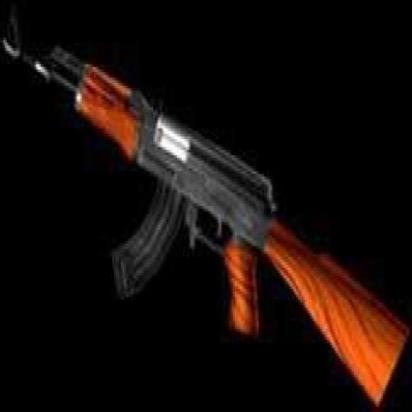Gun: (2, 8, 410, 412)
